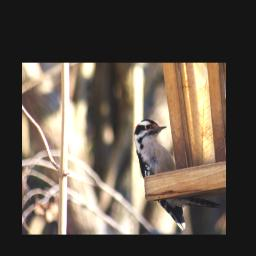Woodpecker: (134, 119, 221, 229)
